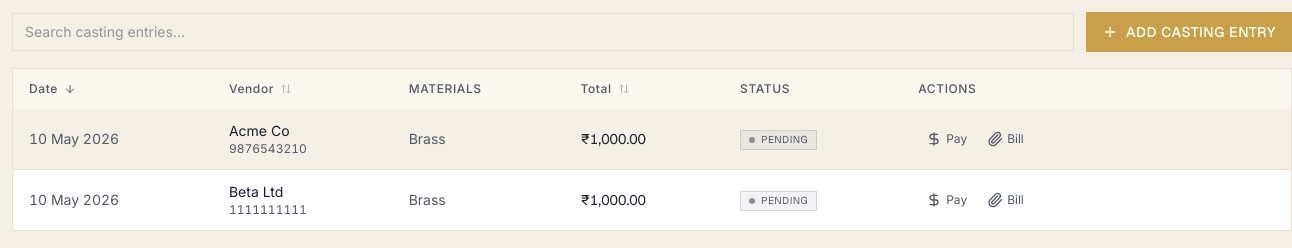
Scenario: CastingTable — render states › filters rows via the search input
Expected: the text "Acme Co" is shown, [229,122,290,139]
Expected: the text "Beta Ltd" is shown, [229,183,283,200]
Type "beta" into the search field with placeholder "Search casting entries…". click: [543, 32]
box: [12,13,1074,51]
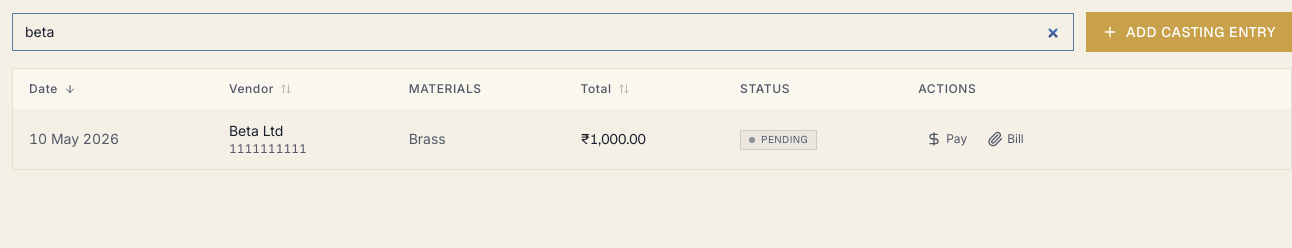
Expected: the text "Beta Ltd" is shown, [229,122,283,139]
Expected: the text "Acme Co" is gone
